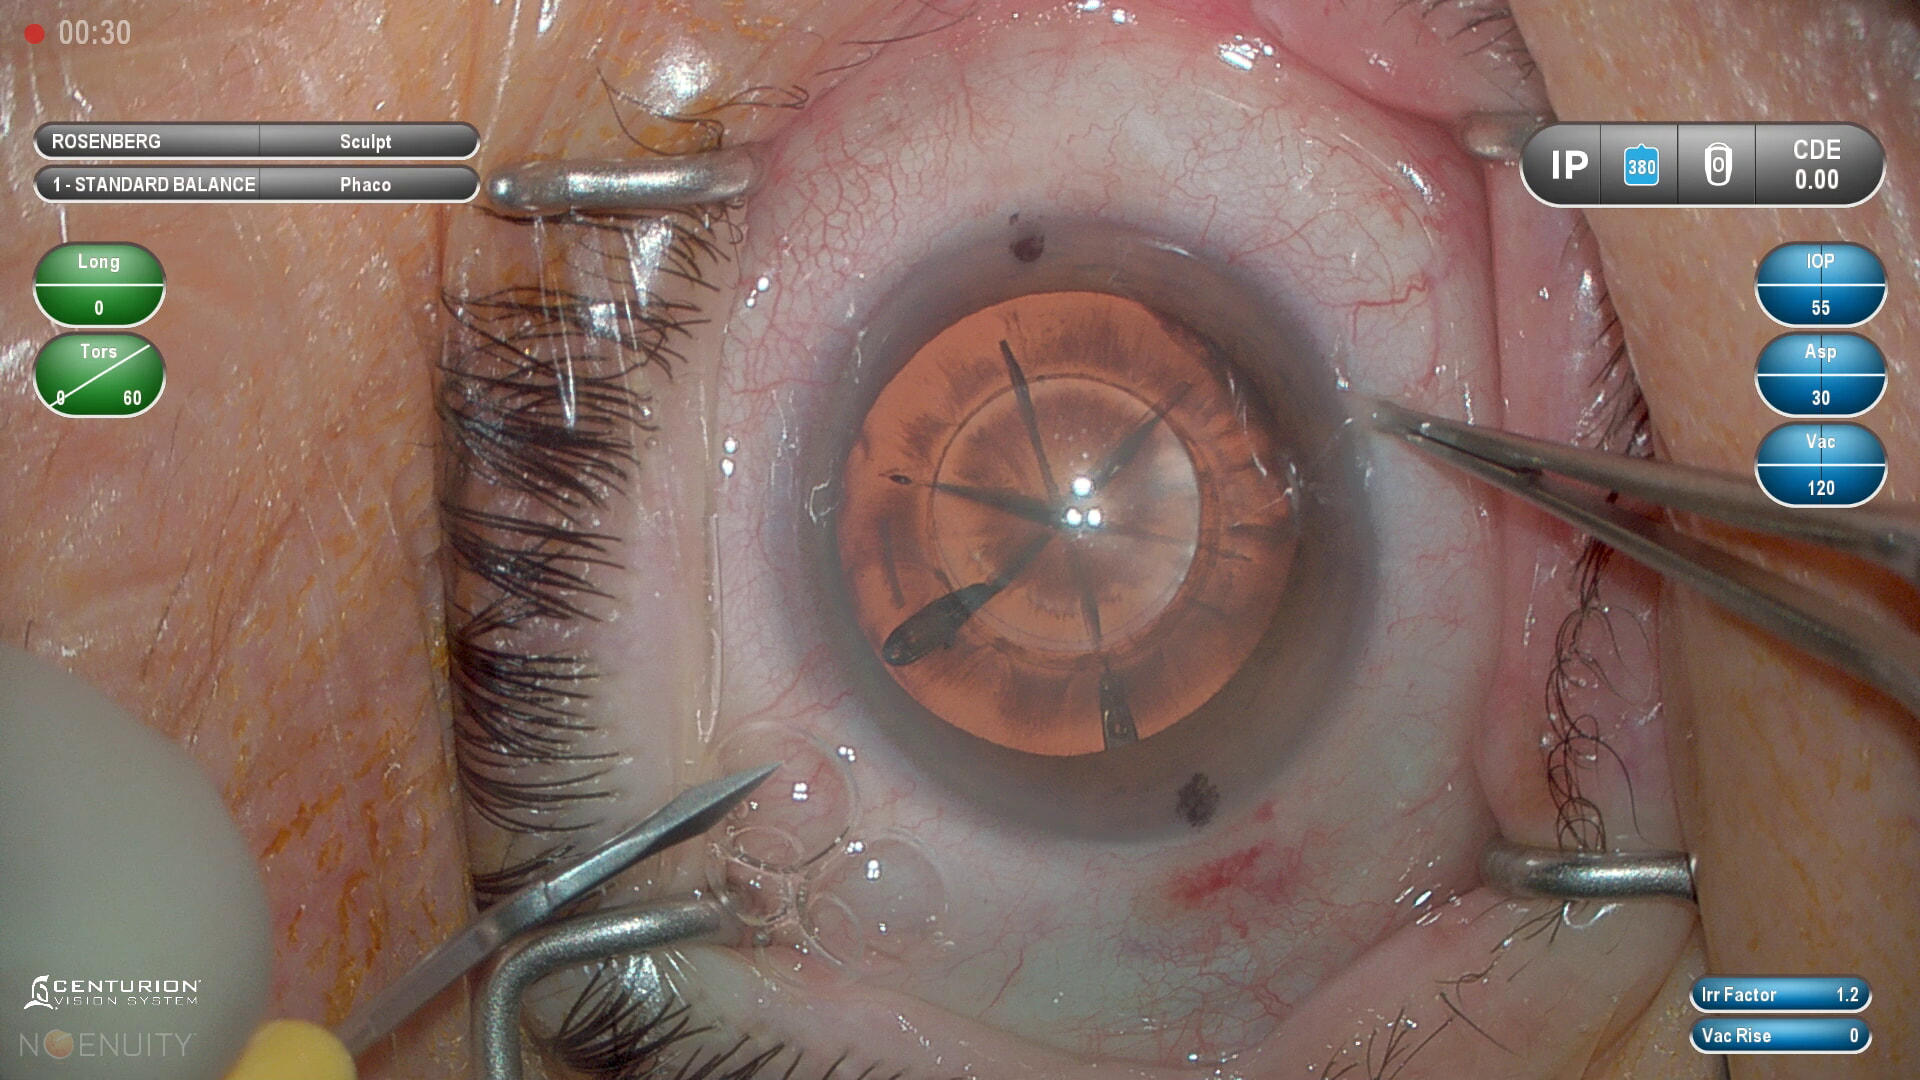iris: (796, 226, 1366, 833)
pupil: (844, 299, 1291, 751)
